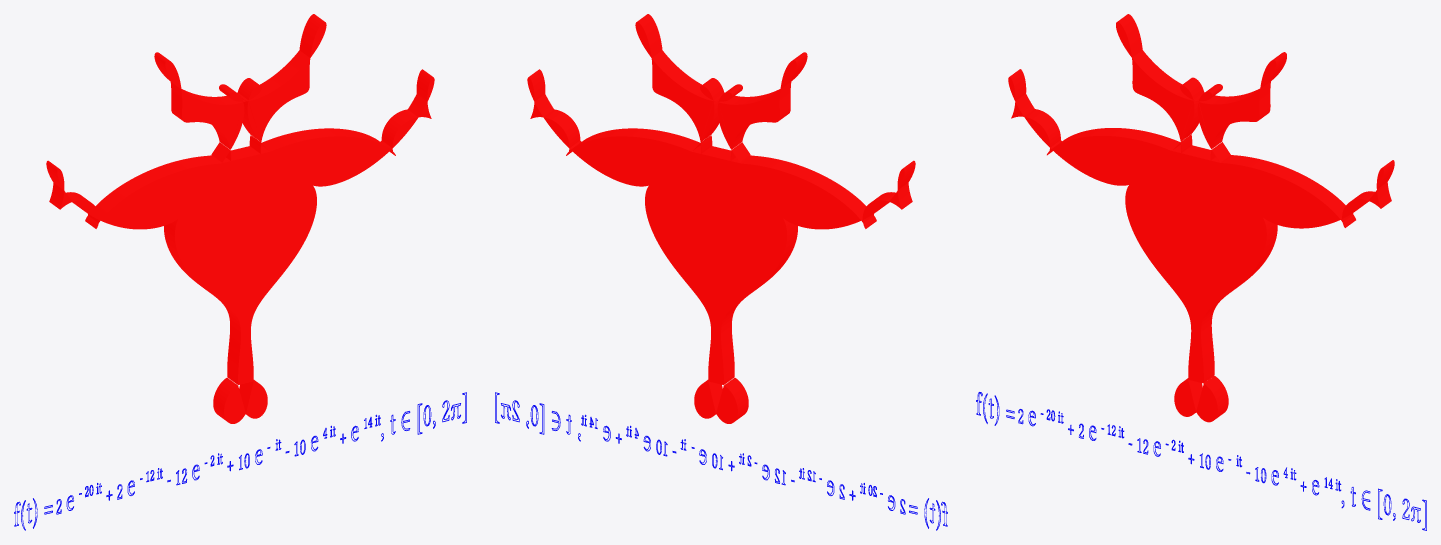
File: SimpleBeauty6.glb
The picture shows the model from 3 angles, left to right: view 1: azimuth 30°, elevation 25°; view 2: azimuth 150°, elevation 25°; view 3: azimuth 330°, elevation 25°; orthographic projection.
Bounding box in the file's own units: 1.2 × 1.12 × 0.05.
